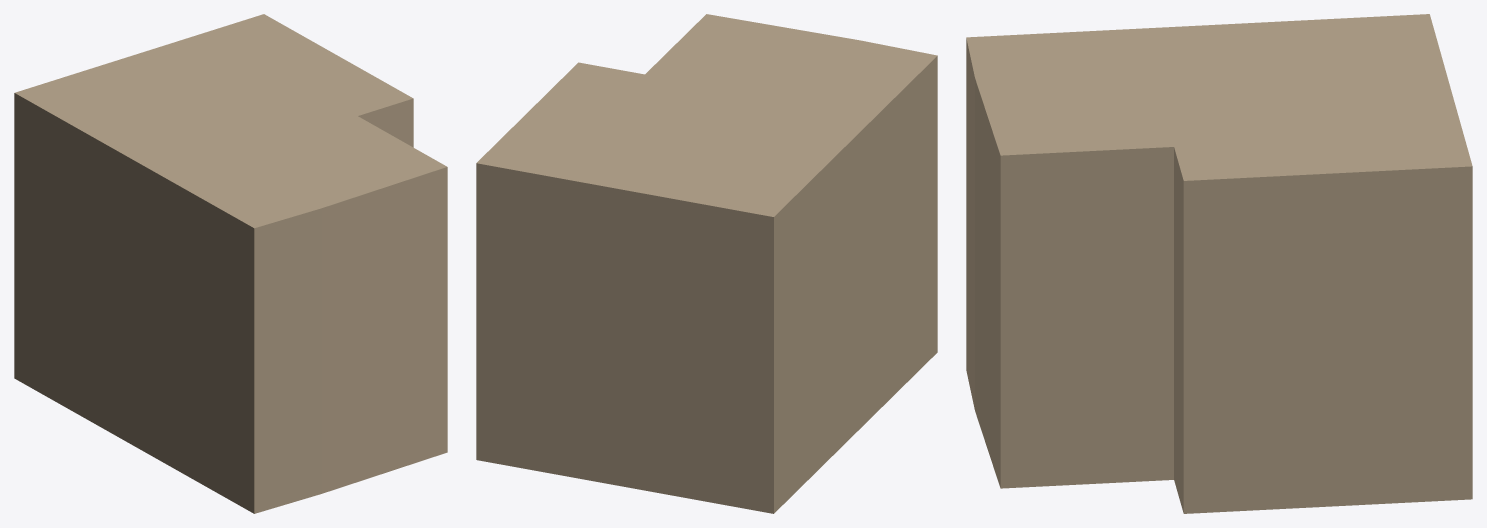
Rendered from bld_109053852.dae.
3 views of the same model, side by side, from view 1: azimuth 30°, elevation 25°; view 2: azimuth 150°, elevation 25°; view 3: azimuth 270°, elevation 25° (orthographic). The views are drawn at different scales.
Visible parts, largest first — view 1: bld_109053852; view 2: bld_109053852; view 3: bld_109053852.
Part boxes in pixels (<box>): bld_109053852: <box>14,14,447,513</box>; bld_109053852: <box>476,14,937,513</box>; bld_109053852: <box>966,14,1472,513</box>.
Bounding box in the file's own units: 8.6 × 11.03 × 8.
